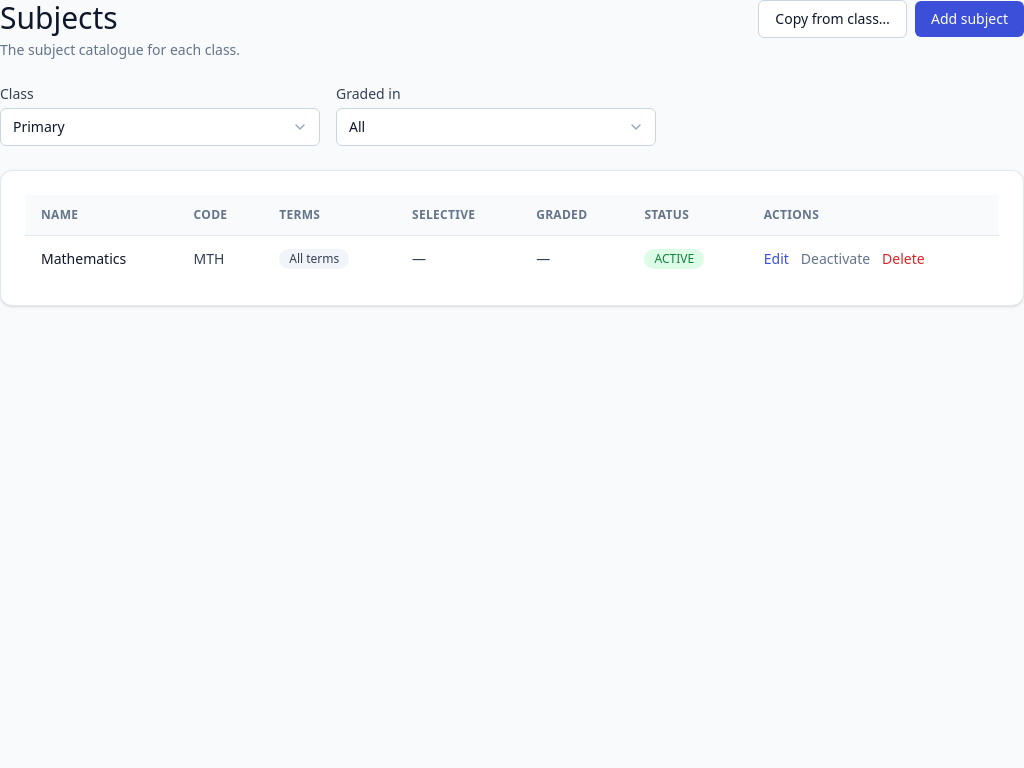
Scenario: SubjectsPage › renders the server's 422 message inside the dialog when the delete is rejected
Expected: the text "Mathematics" is shown, x1=25 y1=236 x2=178 y2=281
Click the button "Delete" at (903, 258), box x1=882 y1=248 x2=925 y2=268
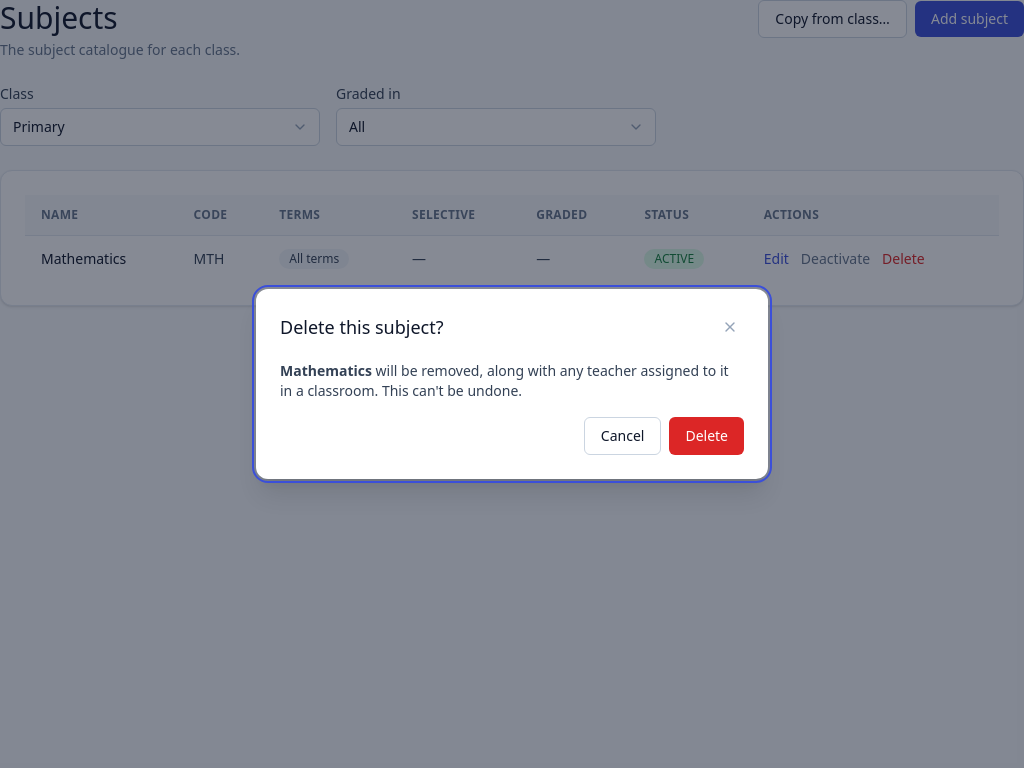
Click the button "Delete" at (707, 436), box x1=669 y1=417 x2=744 y2=455
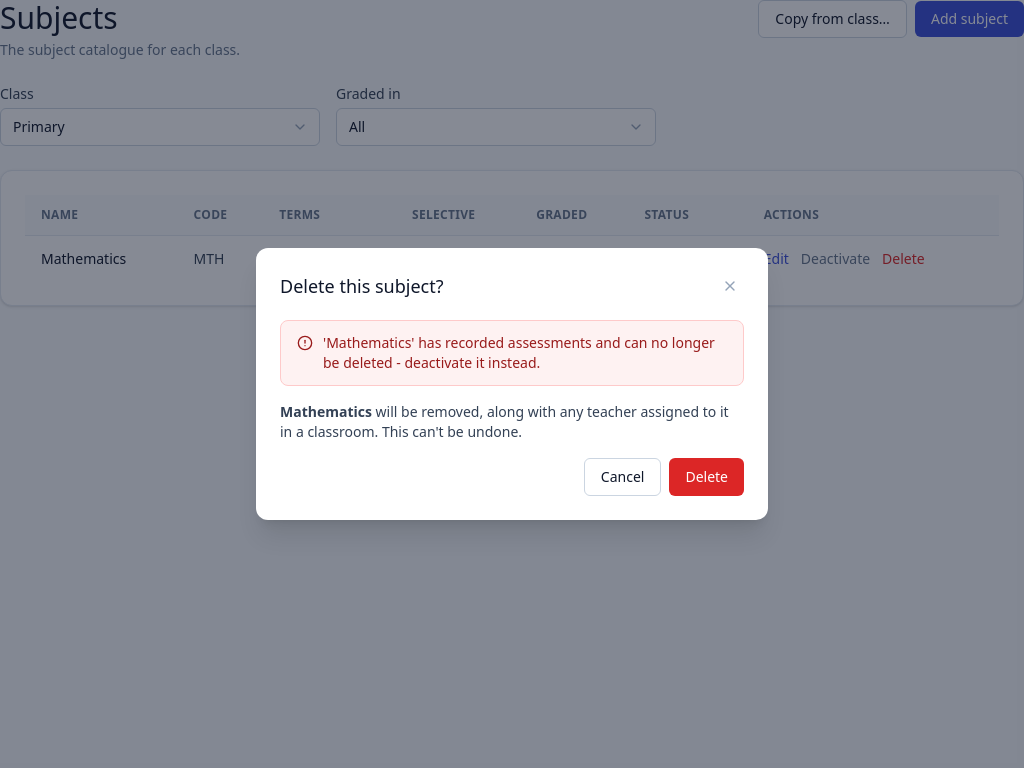
Expected: the text "'Mathematics' has recorded assessments and can no longer be deleted - deactivate it instead." is shown, x1=323 y1=333 x2=715 y2=372
